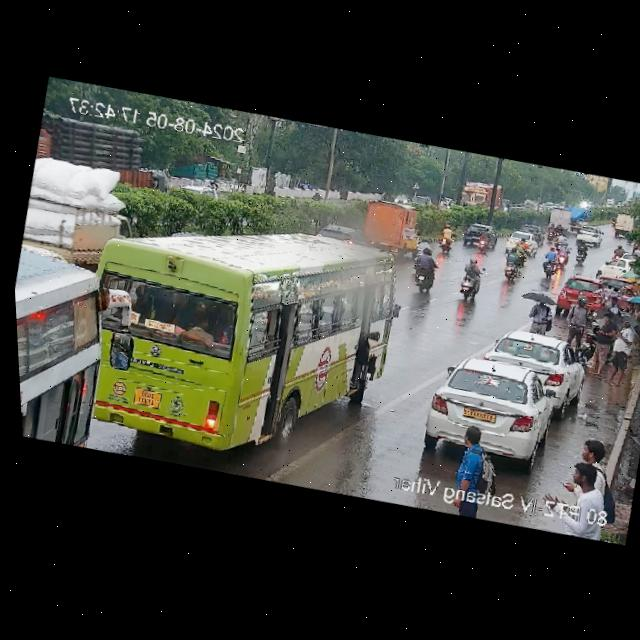bus: (72, 189, 413, 481)
car: (416, 346, 565, 466), (485, 323, 585, 401), (558, 273, 605, 312), (596, 254, 633, 288), (504, 229, 541, 257), (574, 223, 606, 246), (519, 221, 546, 242), (461, 221, 481, 246)
motorcycle: (13, 243, 153, 455), (556, 434, 610, 503), (447, 419, 493, 489), (403, 243, 446, 294), (449, 257, 488, 303), (497, 243, 530, 282), (538, 247, 559, 280), (569, 240, 591, 267), (438, 222, 456, 254), (474, 223, 493, 253), (555, 241, 574, 268), (545, 223, 566, 244), (414, 236, 429, 256)
person: (603, 316, 640, 388), (585, 311, 618, 381), (561, 290, 593, 348), (523, 292, 562, 337), (607, 285, 640, 319)
truck: (16, 156, 136, 277), (33, 110, 152, 180), (360, 193, 425, 253), (456, 176, 502, 215), (564, 205, 589, 233), (548, 205, 573, 224)
